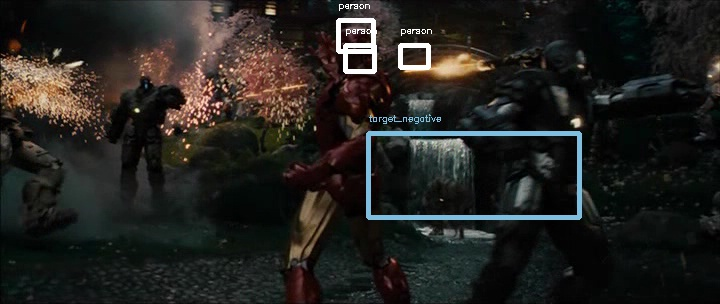person: (307, 20, 353, 76), (306, 20, 352, 76), (308, 20, 354, 76), (307, 19, 353, 75), (307, 21, 353, 77)
target_negative: (329, 80, 681, 232), (191, 259, 701, 287), (456, 133, 558, 259), (307, 95, 347, 174), (529, 282, 567, 291), (713, 115, 715, 211)
